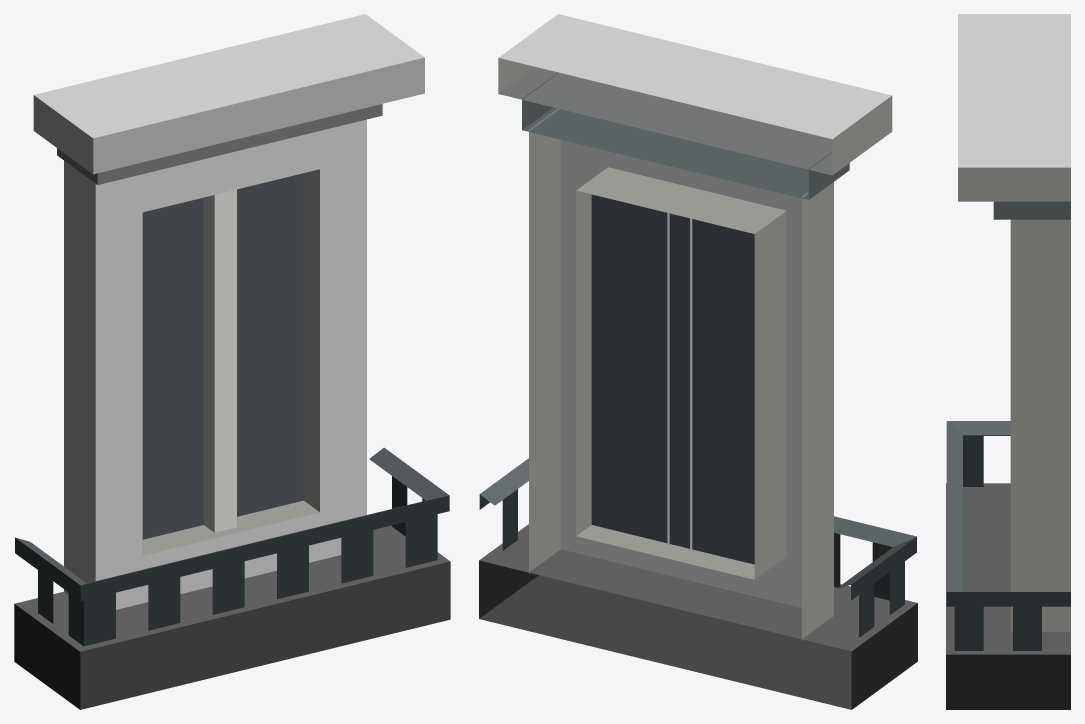
The model's file is TB_CITY_BD_Window_G.FBX.
The picture shows the model from 3 angles, left to right: view 1: azimuth 30°, elevation 25°; view 2: azimuth 150°, elevation 25°; view 3: azimuth 270°, elevation 25°; orthographic projection. The views are drawn at different scales.
Visible parts, largest first — view 1: TB_CITY_BD_Window_G; view 2: TB_CITY_BD_Window_G; view 3: TB_CITY_BD_Window_G.
Boxes of the visible parts, bbox=[...] form: TB_CITY_BD_Window_G: bbox=[14, 14, 450, 709]; TB_CITY_BD_Window_G: bbox=[479, 14, 917, 709]; TB_CITY_BD_Window_G: bbox=[946, 14, 1070, 709].
Bounding box in the file's own units: 1.96 × 2.85 × 0.6036.
